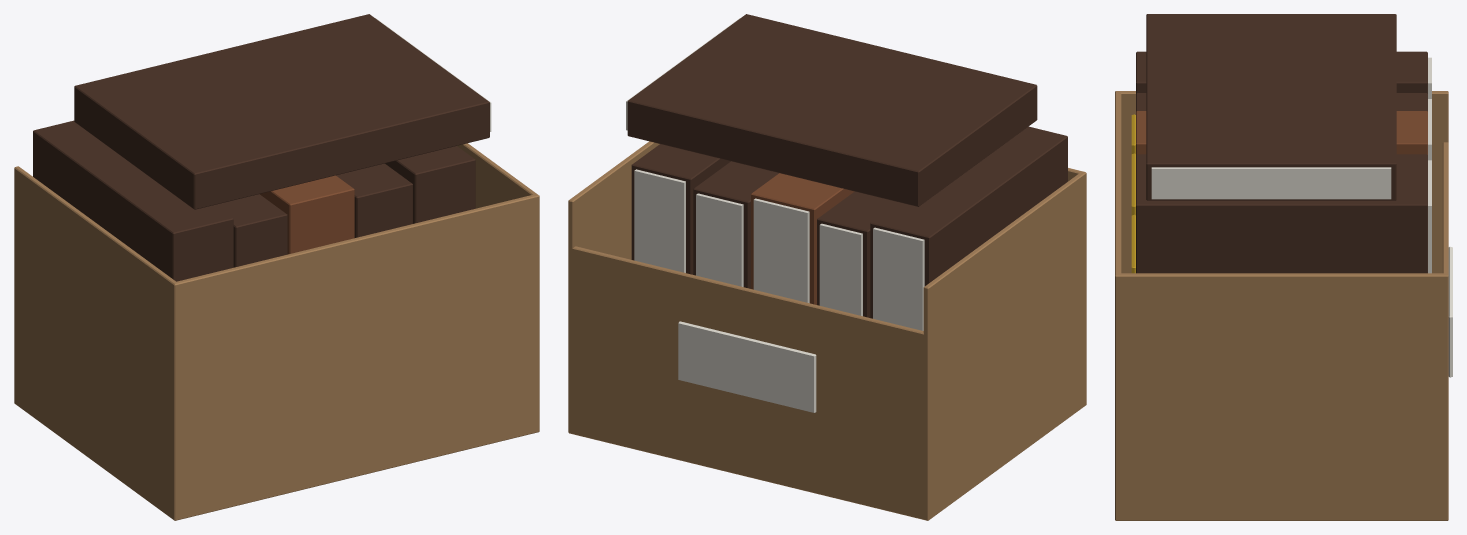
Rendered from prop_loot_ledger_books.glb.
3 renders of one model, left to right at view 1: azimuth 30°, elevation 25°; view 2: azimuth 150°, elevation 25°; view 3: azimuth 270°, elevation 25°, orthographic. The views are drawn at different scales.
Visible parts, largest first — view 1: Archive; view 2: Archive; view 3: Archive.
Part boxes in pixels (box(x1,y1,x2,y2)): Archive: box(14, 14, 539, 520); Archive: box(568, 14, 1086, 520); Archive: box(1115, 14, 1452, 520).
Bounding box in the file's own units: 0.42 × 0.36 × 0.324.
